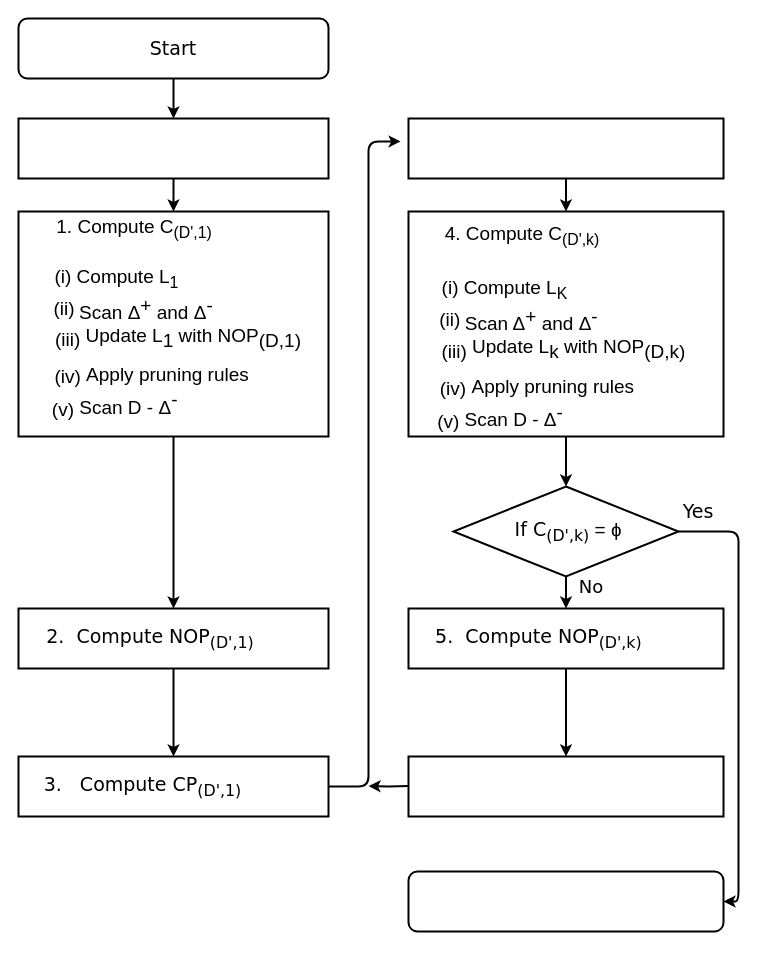
Image size: 764x974. Some labels were removed from this diagram. Each missing label, with the centre of its shape:
6. Compute CP (D',k): (565,786)
End: (565,901)
k = 1: (173,148)
k = k + 1: (565,148)
